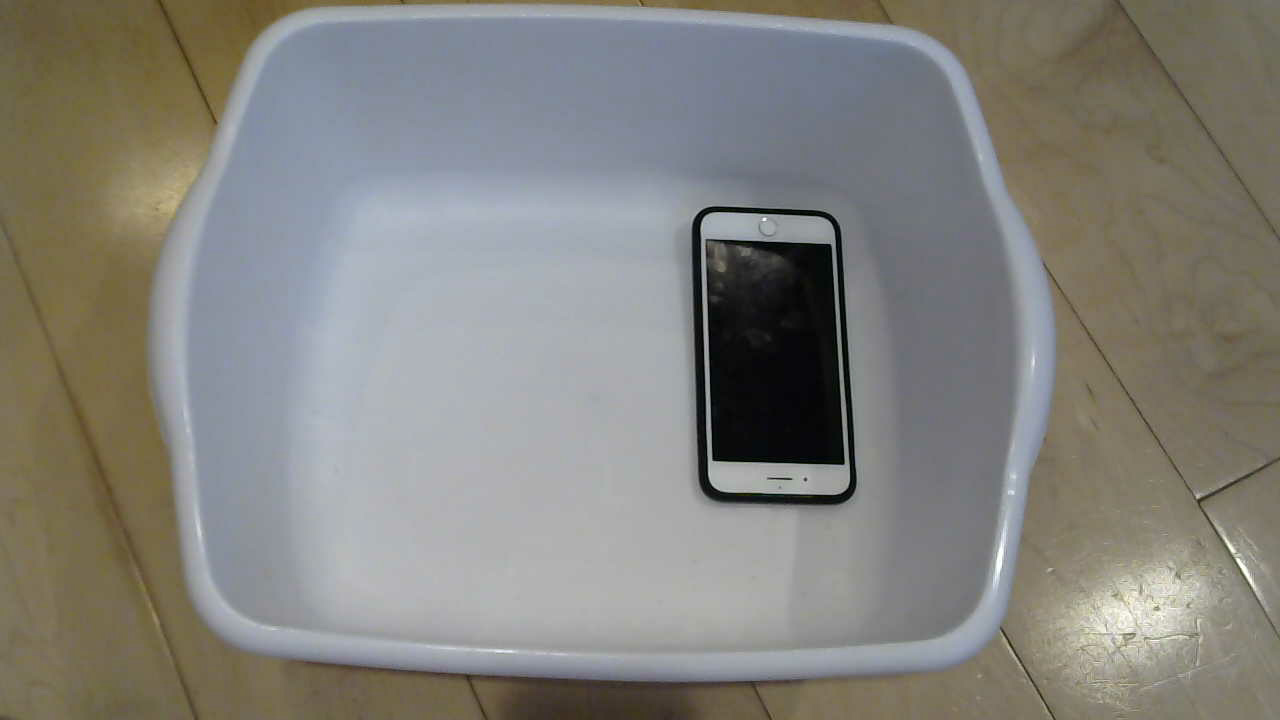phone: (685, 205, 870, 526)
